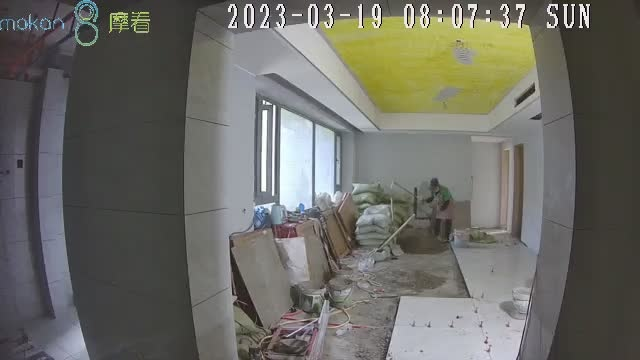people: (424, 178, 453, 242)
window: (254, 93, 344, 215)
